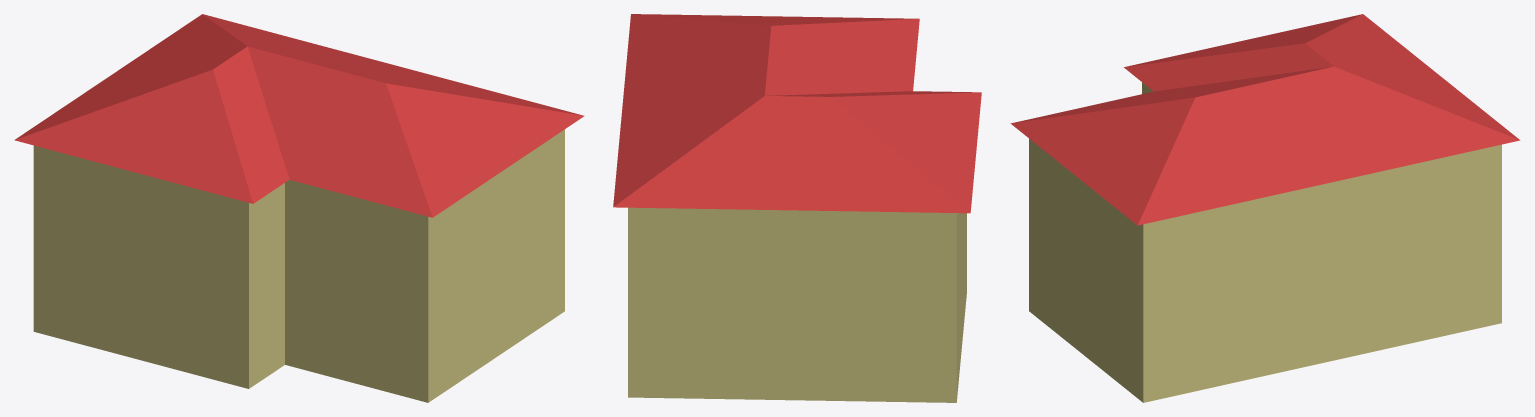
The picture shows the model from 3 angles, left to right: view 1: azimuth 30°, elevation 25°; view 2: azimuth 150°, elevation 25°; view 3: azimuth 270°, elevation 25°; orthographic projection. The views are drawn at different scales.
Bounding box in the file's own units: 18.3 × 18.64 × 9.46.
